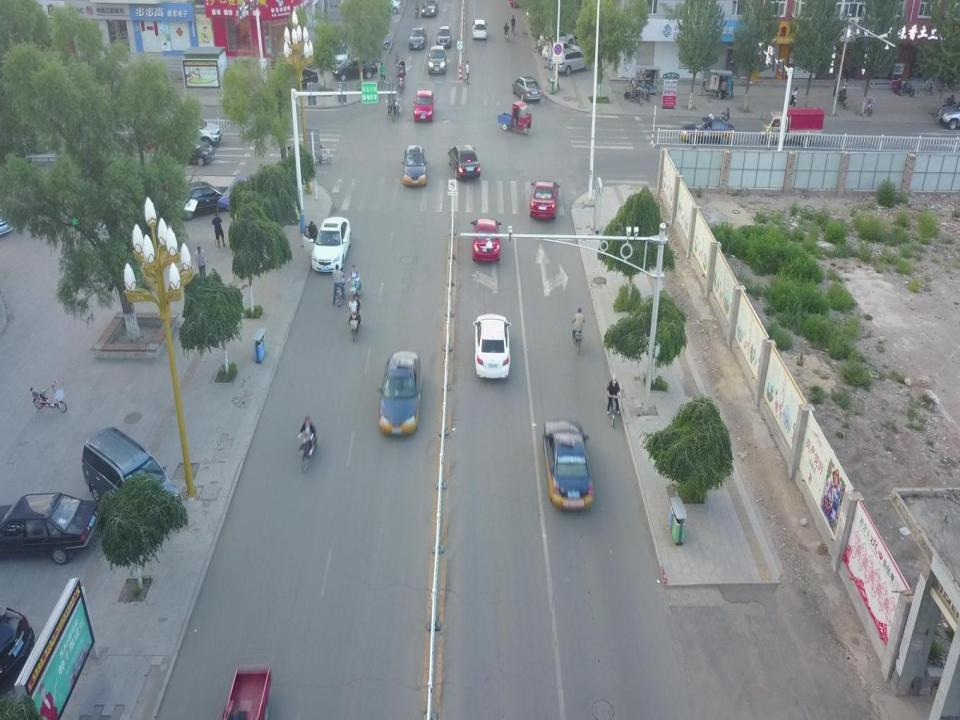car: (0, 492, 103, 564), (542, 417, 594, 513), (377, 350, 421, 438), (302, 216, 352, 272), (473, 312, 513, 380), (168, 181, 234, 220), (679, 113, 736, 147), (167, 114, 223, 147), (161, 134, 215, 166), (470, 218, 502, 262), (447, 144, 481, 180), (400, 144, 428, 187), (331, 56, 378, 81), (530, 180, 560, 219), (550, 48, 591, 75), (276, 67, 318, 91), (540, 40, 588, 60), (512, 75, 542, 101), (539, 27, 575, 48), (412, 90, 435, 122), (426, 45, 448, 75), (937, 102, 960, 130), (408, 26, 427, 50), (435, 25, 453, 48), (374, 0, 402, 14), (471, 18, 488, 39), (421, 0, 438, 17)
van: (81, 426, 182, 526), (329, 38, 349, 68)
